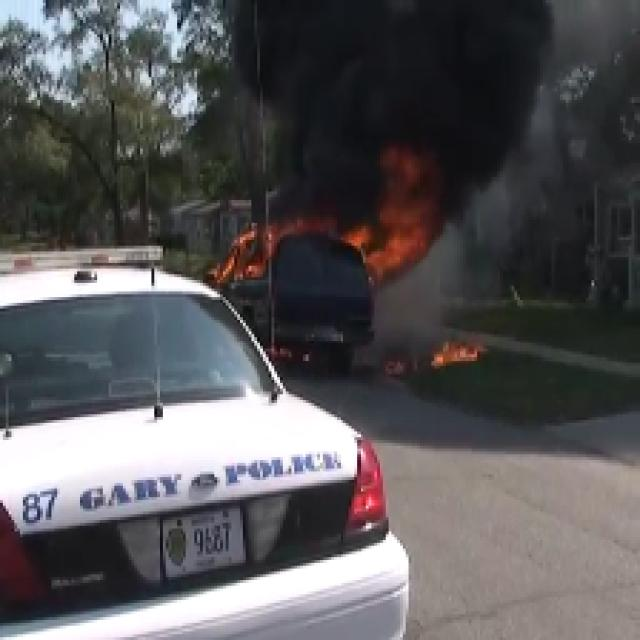fire: (350, 222, 414, 265)
smoke: (264, 13, 506, 166)
